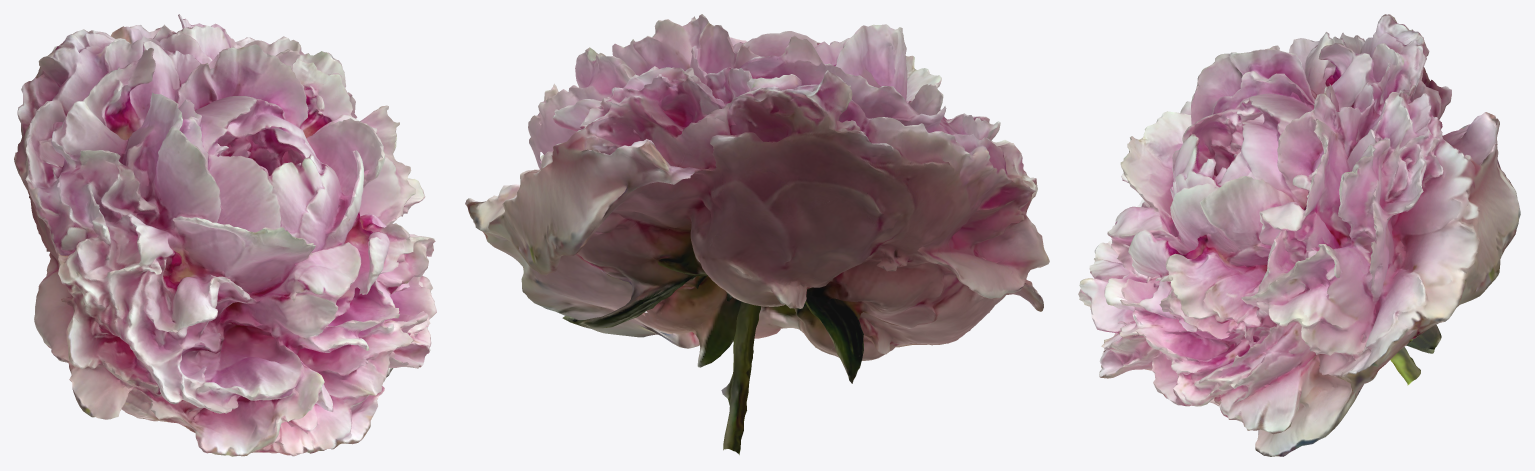
Rendered from pinkpeony.glb.
3 renders of one model, left to right at view 1: azimuth 30°, elevation 25°; view 2: azimuth 150°, elevation 25°; view 3: azimuth 270°, elevation 25°, orthographic. The views are drawn at different scales.
Visible parts, largest first — view 1: Object_4; view 2: Object_4; view 3: Object_4.
Boxes of the visible parts, box(x1,y1,x2,y2) form: Object_4: box(14, 14, 436, 456); Object_4: box(465, 14, 1049, 454); Object_4: box(1078, 14, 1520, 456).
Bounding box in the file's own units: 1.15 × 0.9338 × 1.12.
1 material, 1 textured.
